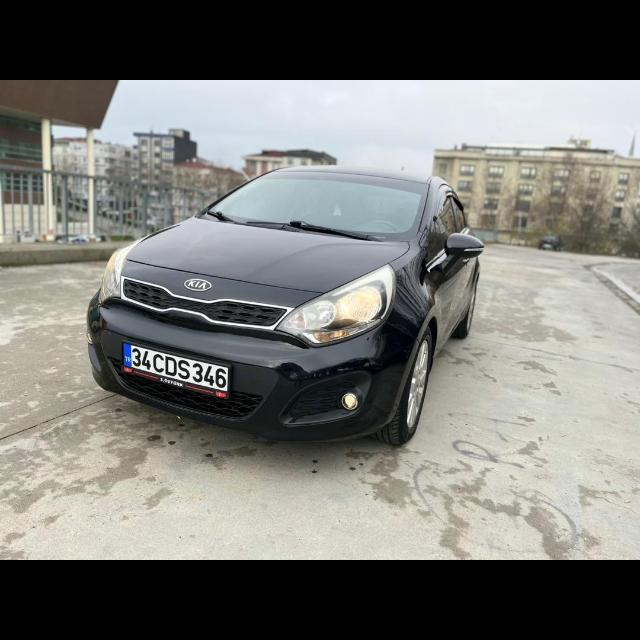Plaka: (126, 342, 232, 392)
